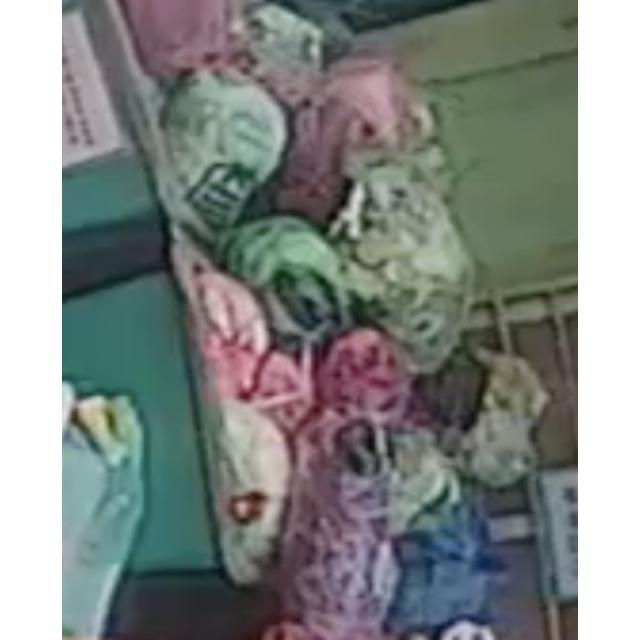general_trashbag: (328, 144, 473, 372), (162, 74, 287, 229), (225, 216, 351, 331)
other_trashbag: (282, 329, 412, 639), (276, 55, 431, 223)
